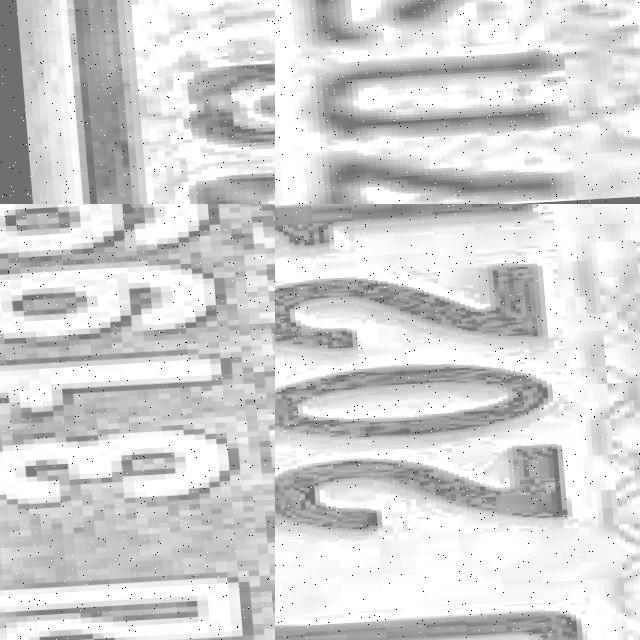license-plate: (275, 204, 640, 640), (0, 204, 275, 640), (275, 0, 640, 204), (29, 0, 275, 204)
